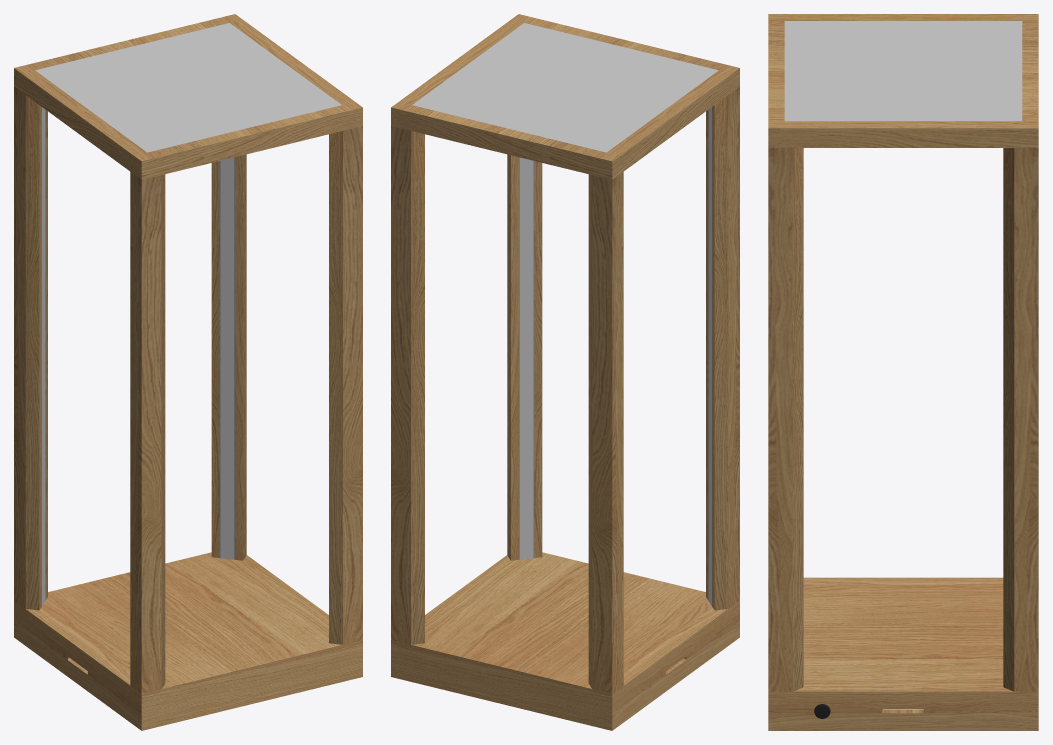
Rendered from 5090-glass.obj.
The picture shows the model from 3 angles, left to right: view 1: azimuth 30°, elevation 25°; view 2: azimuth 150°, elevation 25°; view 3: azimuth 270°, elevation 25°; orthographic projection. The views are drawn at different scales.
Parts seen in each view (by area): view 1: PROTO.006_Cube.026, Cube.003_Cube.005, Cube.001_Cube.003, Cube_Cube.002, Cube.014_Cube.054, Cube.013_Cube.053; view 2: PROTO.006_Cube.026, Cube.003_Cube.005, Cube.001_Cube.003, Cube_Cube.002, Cube.014_Cube.054, Cube.013_Cube.053; view 3: PROTO.006_Cube.026, Cube.003_Cube.005, Cube.001_Cube.003, Cube_Cube.002.
Boxes of the visible parts, left/top/right/bottom form: PROTO.006_Cube.026: left=14, top=87, right=362, bottom=693; Cube.003_Cube.005: left=14, top=552, right=362, bottom=730; Cube.001_Cube.003: left=35, top=23, right=341, bottom=152; Cube_Cube.002: left=14, top=14, right=362, bottom=179; Cube.014_Cube.054: left=42, top=107, right=233, bottom=605; Cube.013_Cube.053: left=41, top=107, right=234, bottom=606; PROTO.006_Cube.026: left=391, top=87, right=739, bottom=693; Cube.003_Cube.005: left=391, top=552, right=739, bottom=730; Cube.001_Cube.003: left=412, top=23, right=718, bottom=152; Cube_Cube.002: left=391, top=14, right=739, bottom=179; Cube.014_Cube.054: left=520, top=107, right=711, bottom=605; Cube.013_Cube.053: left=519, top=107, right=712, bottom=606; PROTO.006_Cube.026: left=768, top=148, right=1038, bottom=691; Cube.003_Cube.005: left=768, top=577, right=1038, bottom=730; Cube.001_Cube.003: left=784, top=21, right=1022, bottom=121; Cube_Cube.002: left=768, top=14, right=1038, bottom=147.
Size of the model in its own units: 0.2512 by 0.615 by 0.25.
